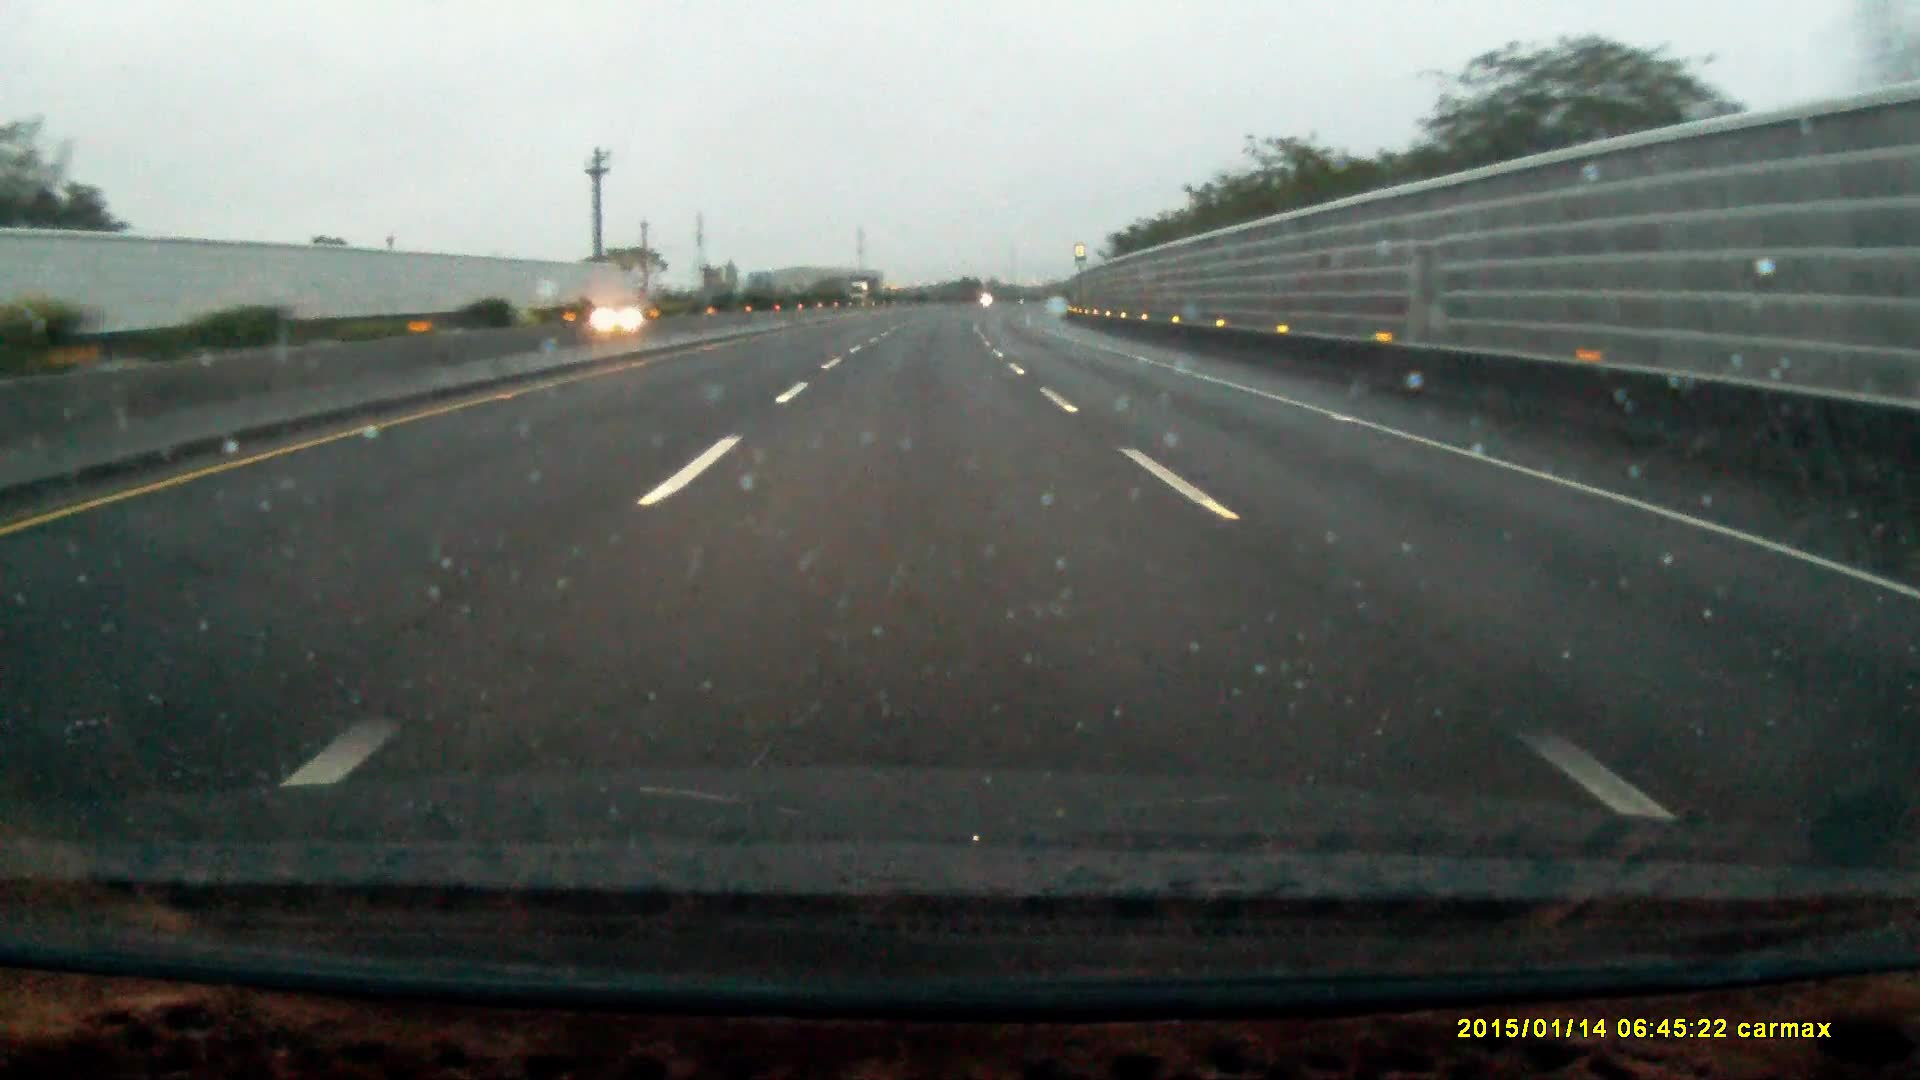vehicle: (591, 299, 665, 338), (849, 278, 882, 305)
